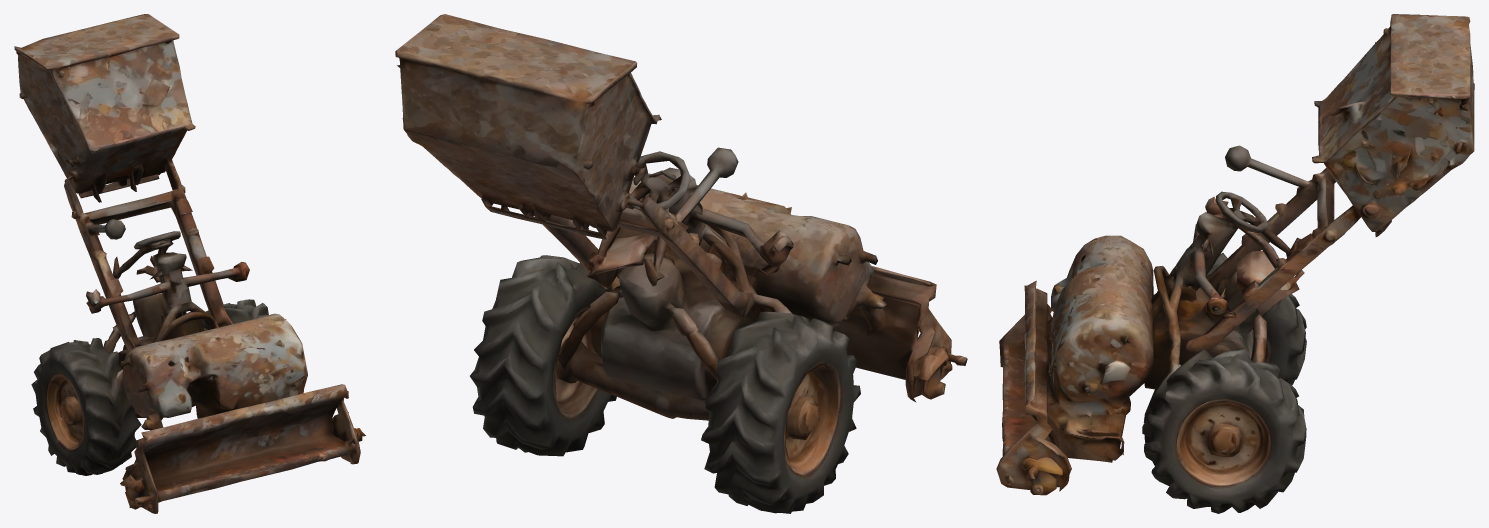
The model's file is mulcher.glb.
3 views of the same model, side by side, from view 1: azimuth 30°, elevation 25°; view 2: azimuth 150°, elevation 25°; view 3: azimuth 270°, elevation 25° (orthographic). The views are drawn at different scales.
Visible parts, largest first — view 1: mulcher / mesh; view 2: mulcher / mesh; view 3: mulcher / mesh.
Boxes of the visible parts, bbox=[...] form: mulcher / mesh: bbox=[14, 14, 365, 513]; mulcher / mesh: bbox=[395, 14, 967, 513]; mulcher / mesh: bbox=[996, 14, 1474, 513].
Bounding box in the file's own units: 0.9403 × 1.3 × 1.35.
Materials: 1 (1 with a texture image).
